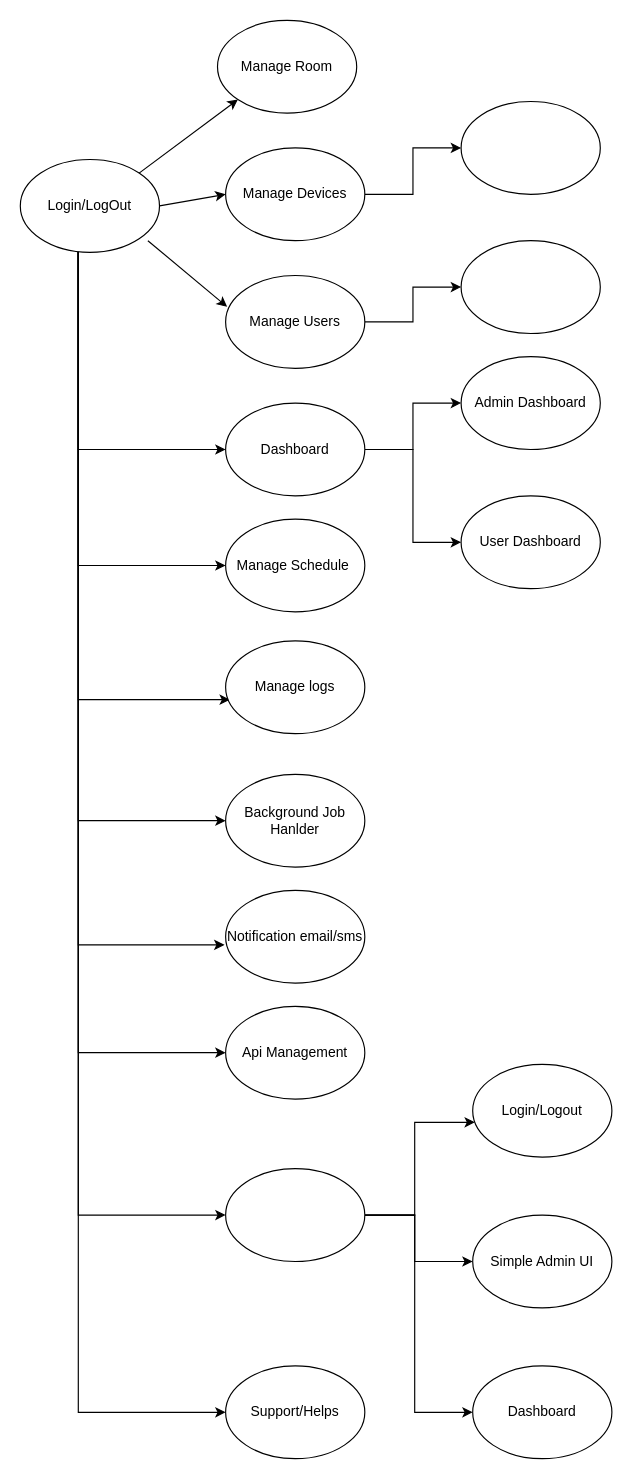
Some shapes in this 632 by 1479 pixel diagram are drawn without their labels. Here are the shapes that lost their labels. From the top down, the centre of each, then its label:
At [530,147]: "Manage Device Type".
At [530,287]: "Manage Role".
At [294,1215]: "Mobile".
